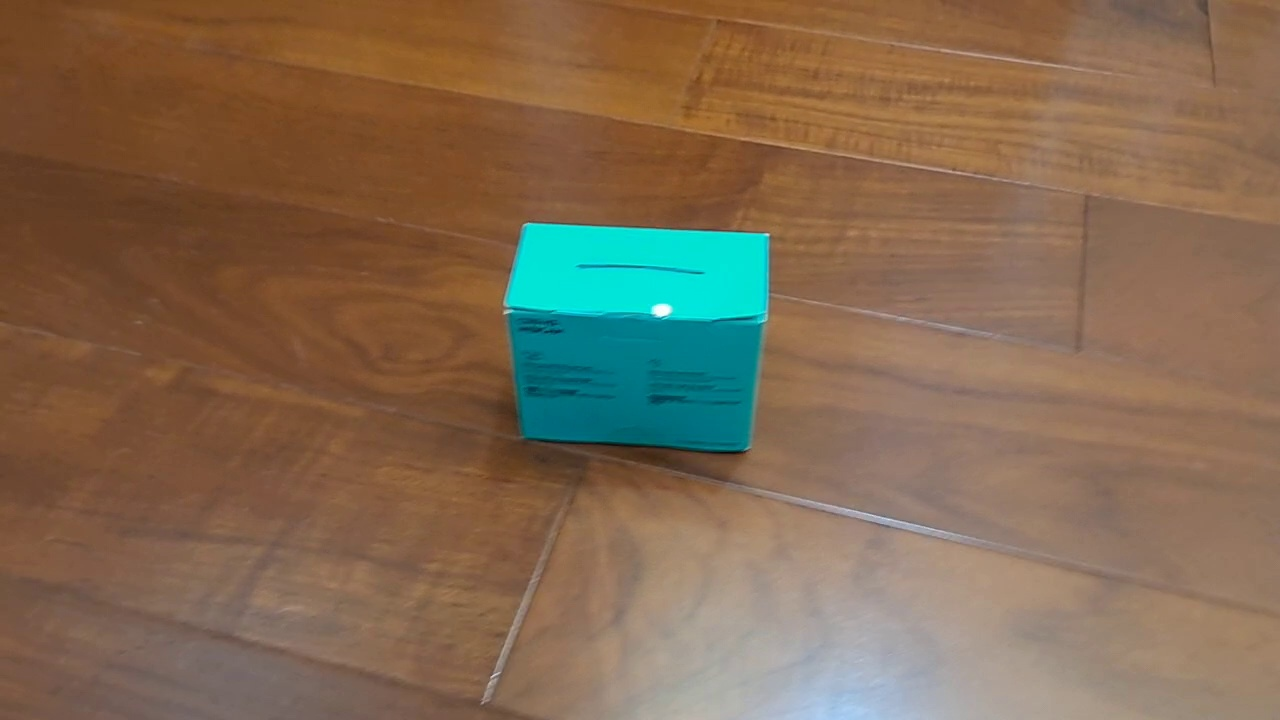webcam: (500, 220, 772, 456)
